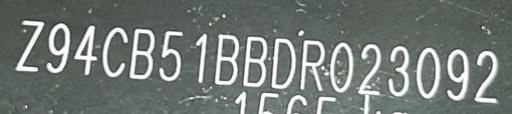letter: (472, 47, 502, 106), (412, 44, 444, 99), (98, 21, 128, 77), (10, 18, 40, 73), (40, 22, 72, 73), (354, 39, 382, 97), (325, 39, 355, 93), (382, 43, 412, 97), (266, 35, 296, 87), (157, 26, 185, 80), (130, 22, 156, 80), (443, 46, 471, 99), (298, 36, 324, 93), (72, 23, 98, 78), (212, 33, 240, 83), (240, 33, 266, 86), (190, 30, 210, 84)
